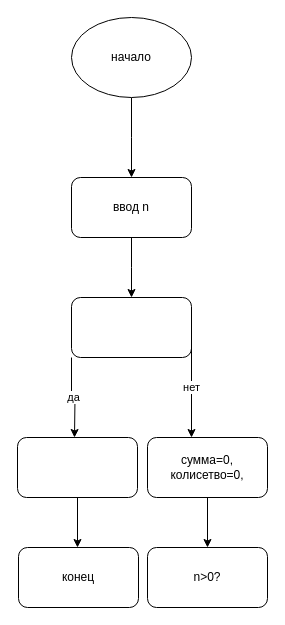
Some shapes in this 285 by 625 pixel diagram are drawn without their labels. The centre of each missing label's shape, as x and y in pixels:
"n<0?" belongs at point (131, 327).
"вывести ошибку" belongs at point (77, 467).
